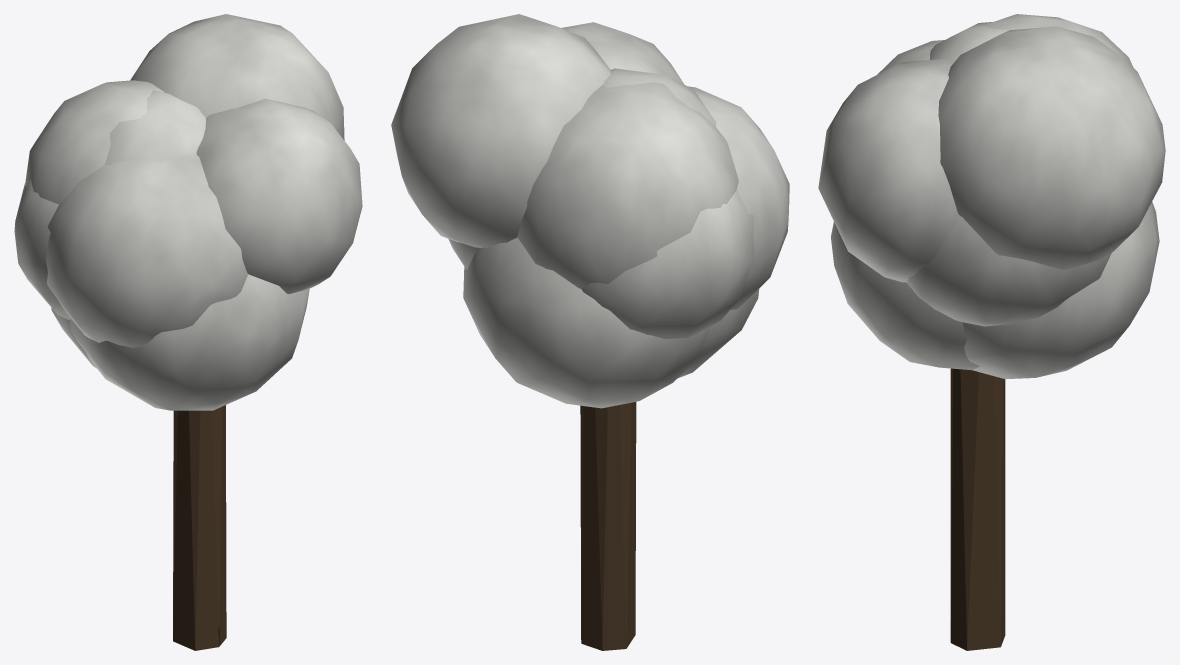
The model's file is strom_v0.glb.
3 renders of one model, left to right at view 1: azimuth 30°, elevation 25°; view 2: azimuth 150°, elevation 25°; view 3: azimuth 270°, elevation 25°, orthographic. The views are drawn at different scales.
Visible parts, largest first — view 1: dum; view 2: dum; view 3: dum.
Boxes of the visible parts, box(x1,y1,x2,y2) form: dum: box(14, 14, 362, 650); dum: box(391, 14, 789, 650); dum: box(818, 14, 1165, 650).
Size of the model in its own units: 3.52 by 6.32 by 3.15.
Materials: 1 (1 with a texture image).
